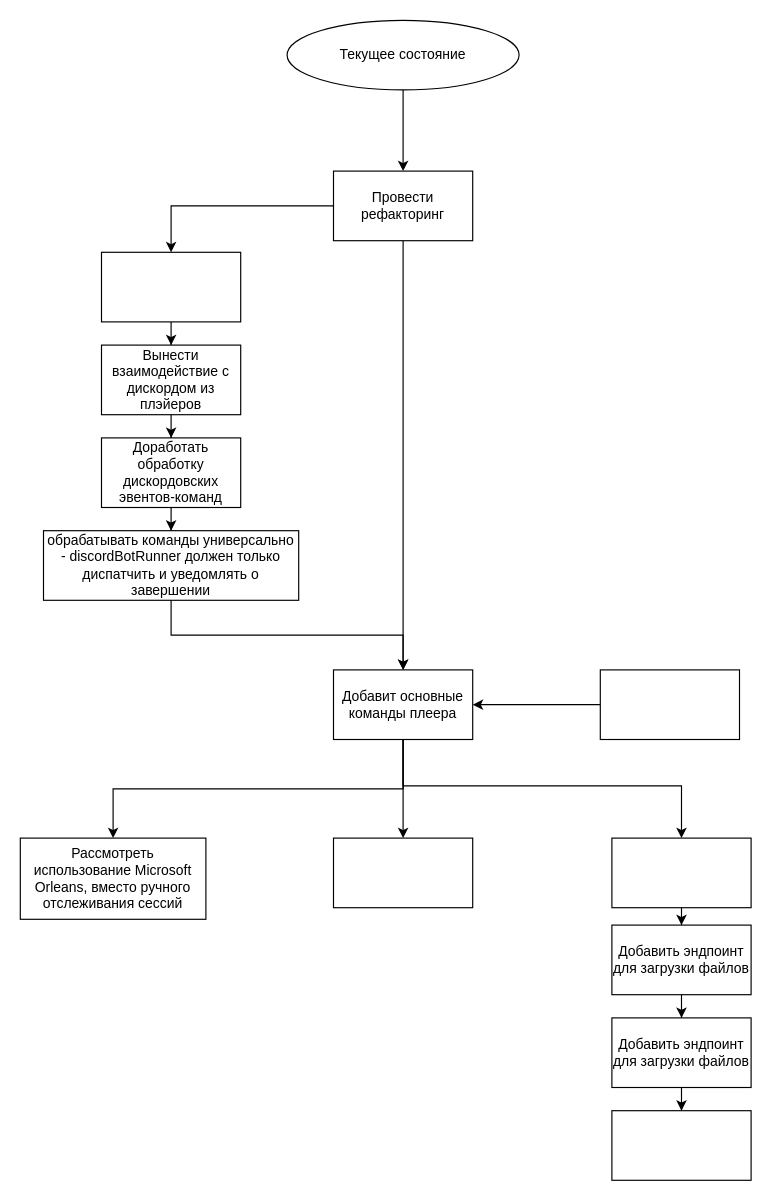
Some shapes in this 771 by 1201 pixel diagram are drawn without their labels. Each missing label, with the centre of its shape:
"loop, shuffle, showQueue и тд" belongs at (669,704).
"Добавить локальное сохранение плейлистов" belongs at (681,872).
"Научится искать по локальным файлам" belongs at (681,1145).
"Научится использовать не только youtube" belongs at (402,872).
"Почистить код" belongs at (170,286).
